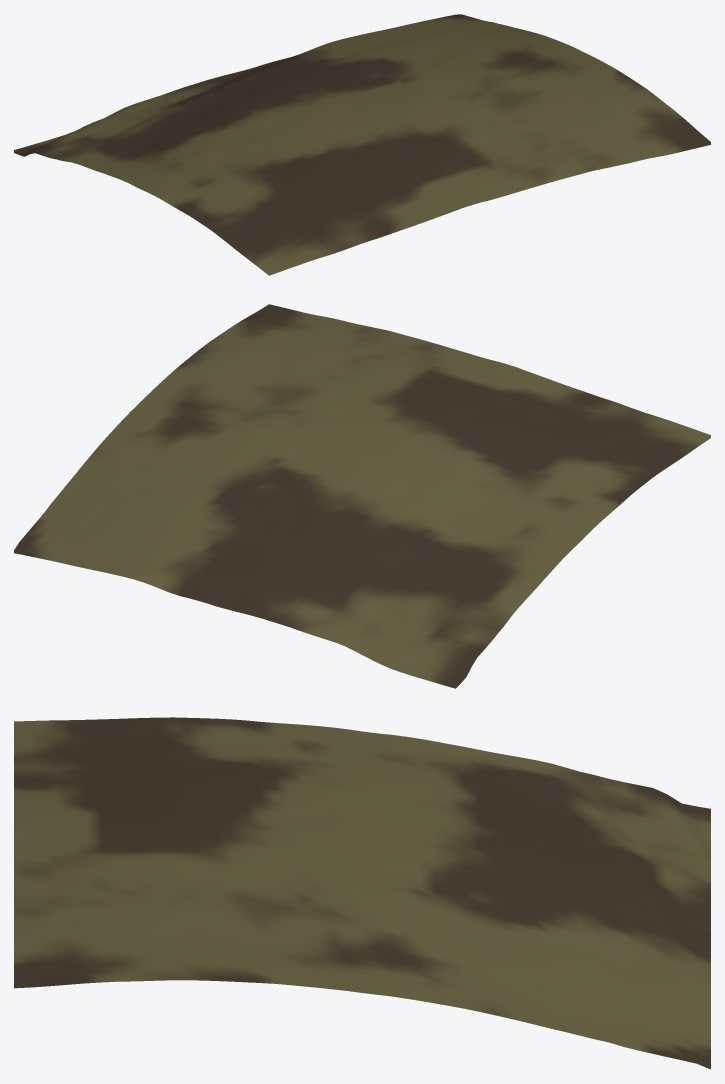
The model's file is land_m_08_10.glb.
3 views of the same model, one above another, from view 1: azimuth 30°, elevation 25°; view 2: azimuth 150°, elevation 25°; view 3: azimuth 270°, elevation 25° (orthographic). The views are drawn at different scales.
Parts seen in each view (by area): view 1: land_m_08_10; view 2: land_m_08_10; view 3: land_m_08_10.
Boxes of the visible parts, left/top/right/bottom form: land_m_08_10: left=14, top=14, right=710, bottom=275; land_m_08_10: left=14, top=304, right=710, bottom=688; land_m_08_10: left=14, top=717, right=710, bottom=1069.
Bounding box in the file's own units: 960 × 200 × 960.
